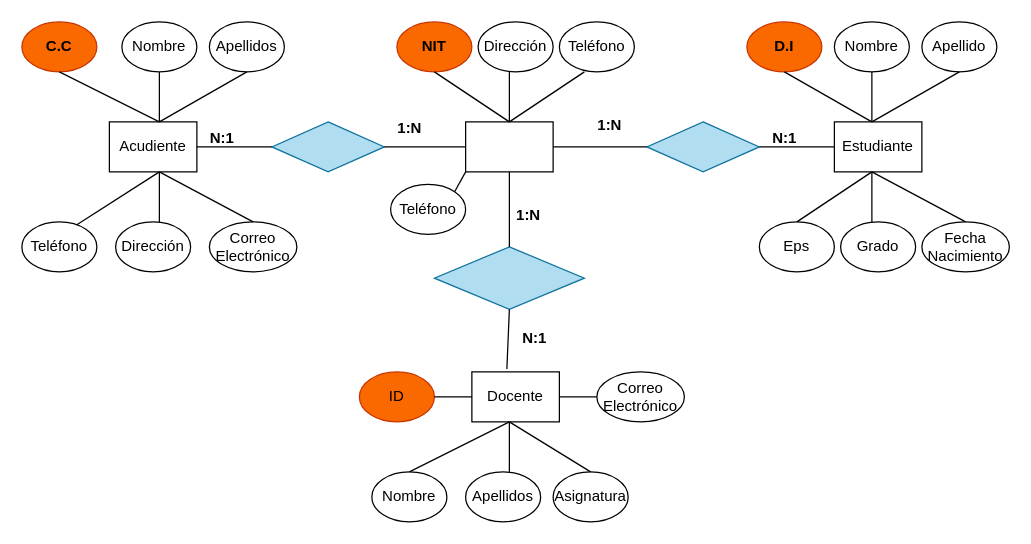
This 1031x544 diagram has some shape labels left out. Each missing label, with the box of its shape:
Contacta: (271, 121, 384, 172)
Gestionar Documentos: (433, 246, 584, 309)
Registra: (646, 121, 759, 172)
Secretaria Académica: (464, 121, 553, 172)
